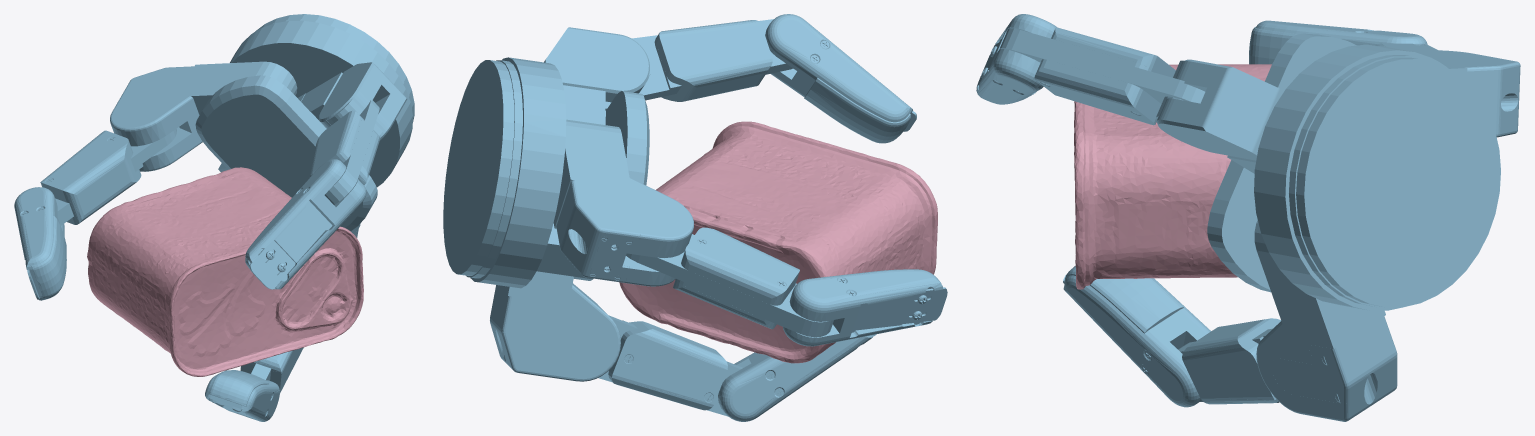
3 renders of one model, left to right at view 1: azimuth 30°, elevation 25°; view 2: azimuth 150°, elevation 25°; view 3: azimuth 270°, elevation 25°, orthographic. The views are drawn at different scales.
Parts seen in each view (by area): view 1: world, potted_meat_can.stl; view 2: world, potted_meat_can.stl; view 3: world, potted_meat_can.stl.
Boxes of the visible parts, left/top/right/bottom form: world: left=14, top=14, right=414, bottom=421; potted_meat_can.stl: left=87, top=167, right=363, bottom=376; world: left=443, top=14, right=947, bottom=421; potted_meat_can.stl: left=619, top=121, right=937, bottom=363; world: left=976, top=14, right=1520, bottom=421; potted_meat_can.stl: left=1074, top=64, right=1271, bottom=289.
Bounding box in the file's own units: 0.2137 × 0.16 × 0.1844.
